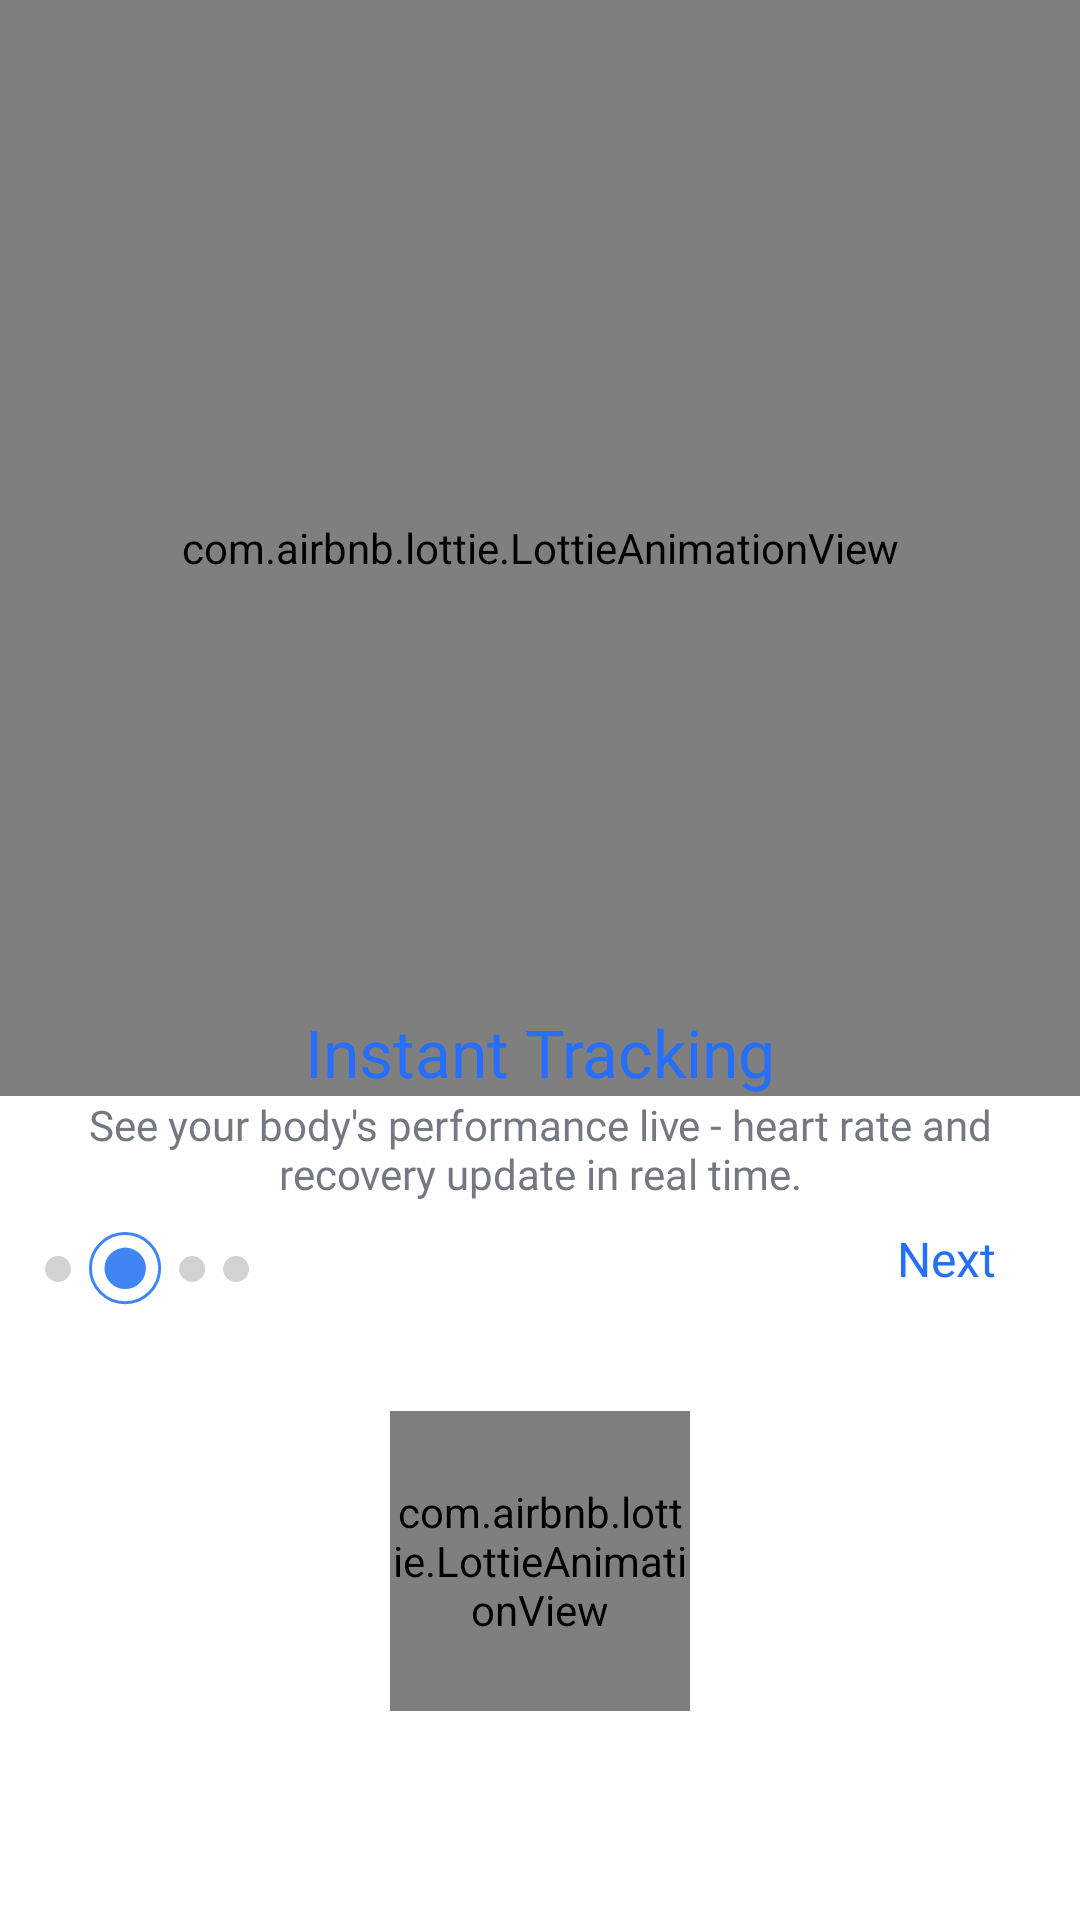

Icon bounding boxes for this 1080w x 1920h phone screenshot, format (x1,y1,x2,y2):
ob two: (45,1232,249,1305)
